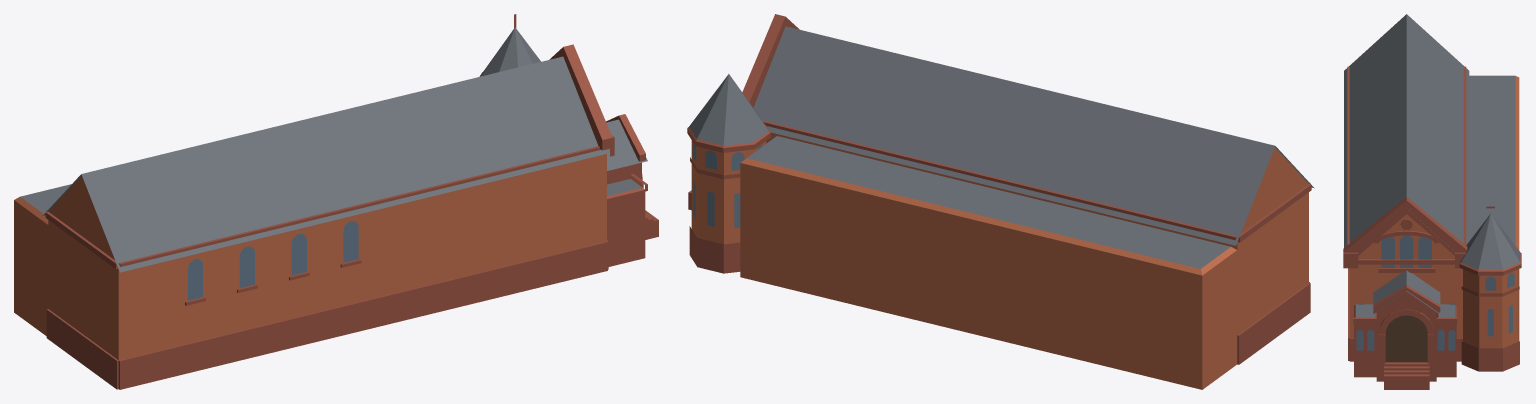
File: nola-memorial-hall.glb
3 renders of one model, left to right at view 1: azimuth 30°, elevation 25°; view 2: azimuth 150°, elevation 25°; view 3: azimuth 270°, elevation 25°, orthographic. The views are drawn at different scales.
Parts seen in each view (by area): view 1: Memorial Hall; view 2: Memorial Hall; view 3: Memorial Hall.
Part boxes in pixels (x1,y1,x2,y2): Memorial Hall: (14,14,658,389); Memorial Hall: (687,14,1314,389); Memorial Hall: (1343,14,1521,389).
Bounding box in the file's own units: 36.98 × 12.5 × 12.52.
